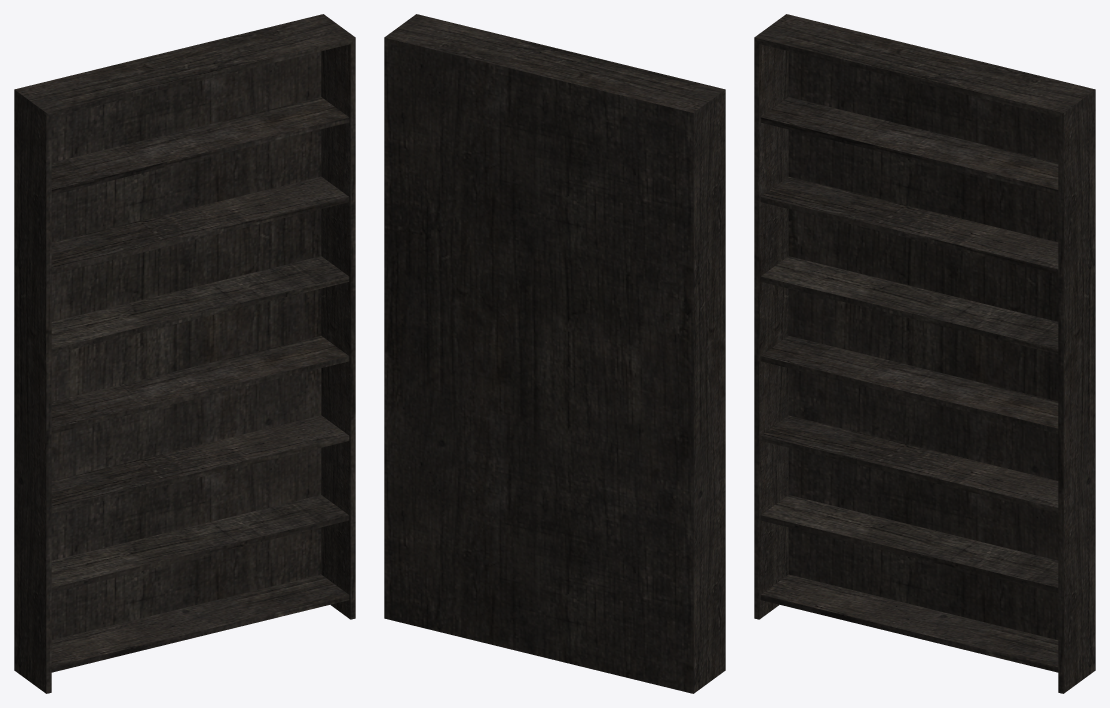
The model's file is shelf_mp_4.dae.
3 views of the same model, side by side, from view 1: azimuth 30°, elevation 25°; view 2: azimuth 150°, elevation 25°; view 3: azimuth 330°, elevation 25° (orthographic).
Visible parts, largest first — view 1: shelf_mp_4; view 2: shelf_mp_4; view 3: shelf_mp_4.
Boxes of the visible parts, x1,y1,x2,y2 form: shelf_mp_4: [14, 14, 355, 693]; shelf_mp_4: [384, 14, 725, 693]; shelf_mp_4: [754, 14, 1095, 693].
Size of the model in its own units: 1.22 by 0.22 by 2.19.
Materials: 1 (1 with a texture image).
